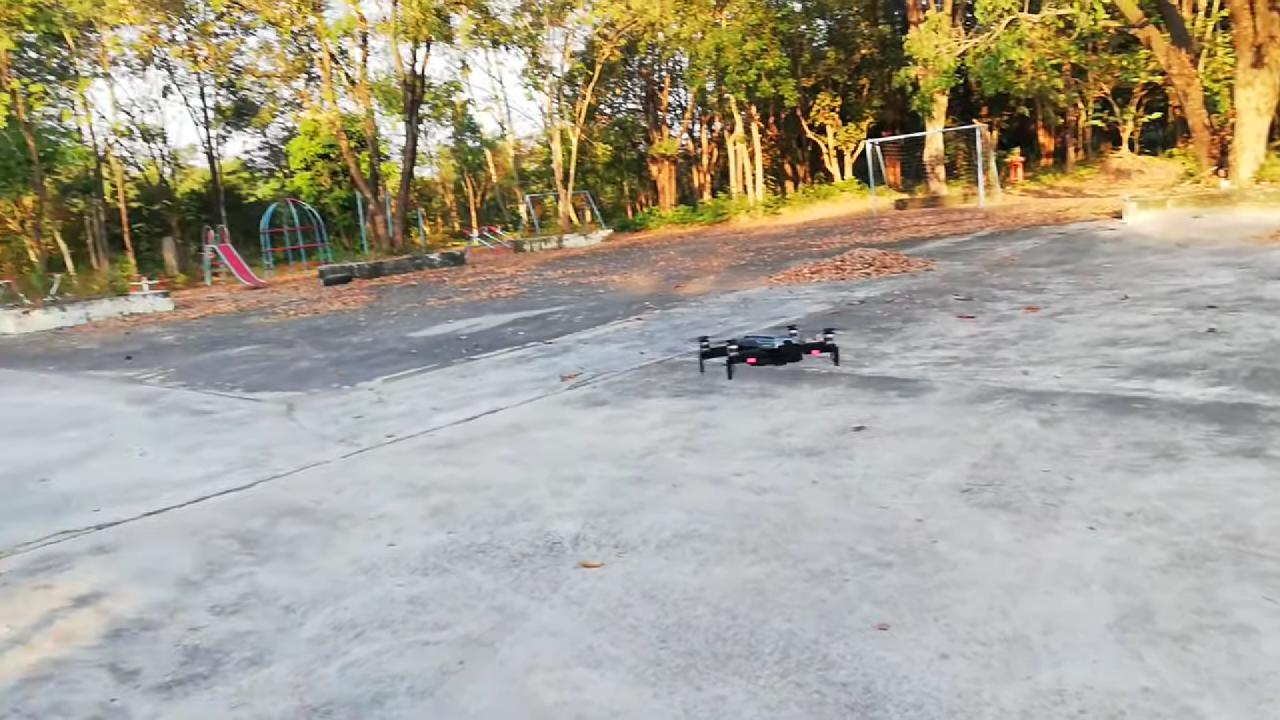Drone: (688, 313, 849, 387)
